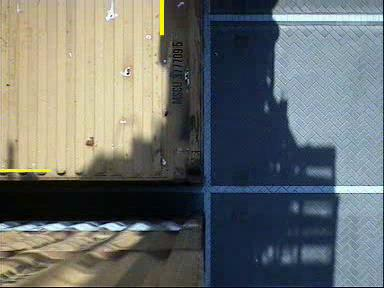groundmarker_2: (175, 154, 212, 236)
